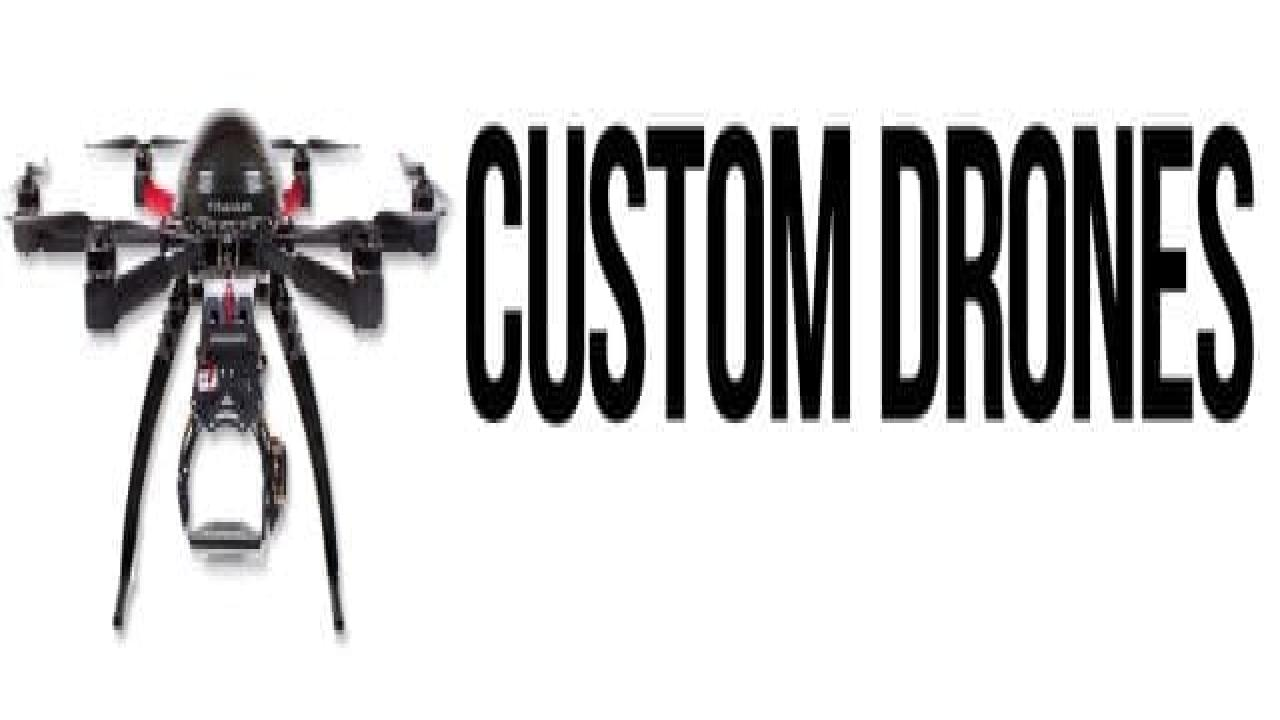Drone: (0, 84, 459, 654)
